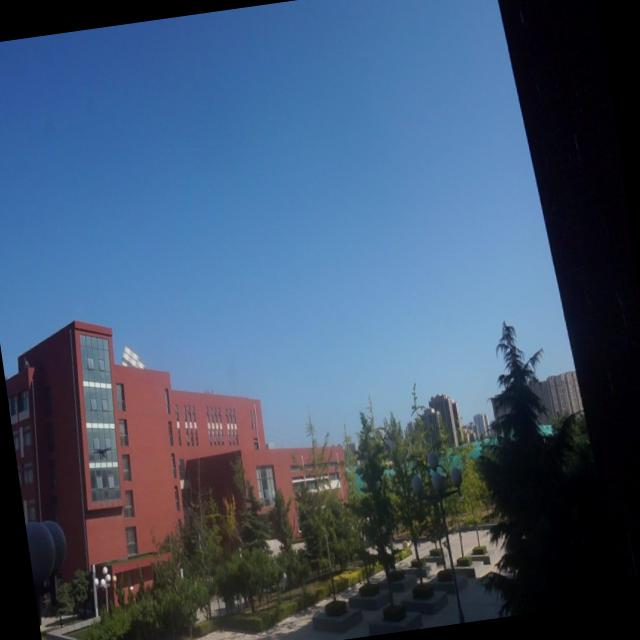drone: (94, 442, 114, 463)
